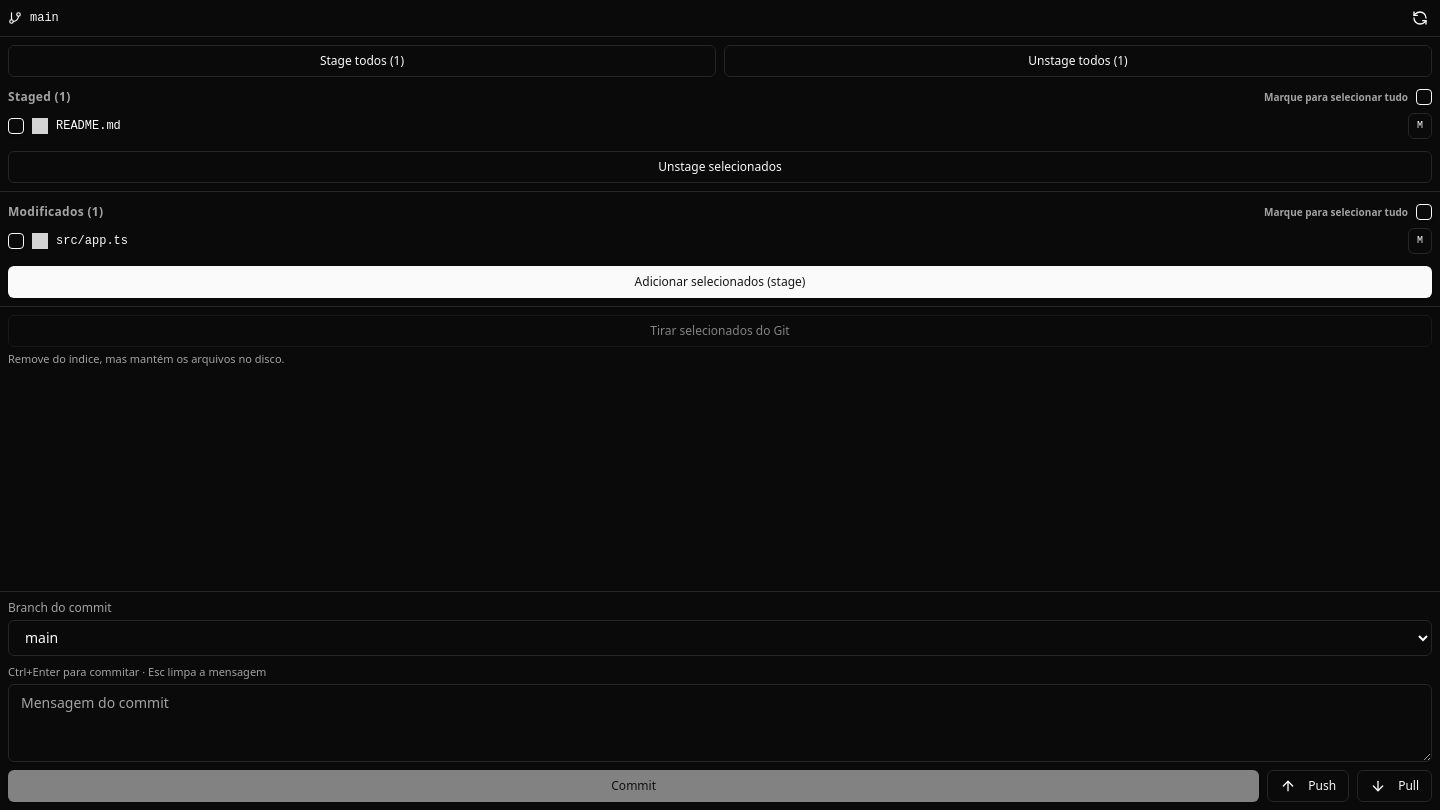
Scenario: <GitPanel /> › permite limpar a mensagem do commit com um botão dedicado
Step 1. Type "feat: clean me" into the text box with placeholder "Mensagem do commit" → (720, 723), box [8, 684, 1432, 762]
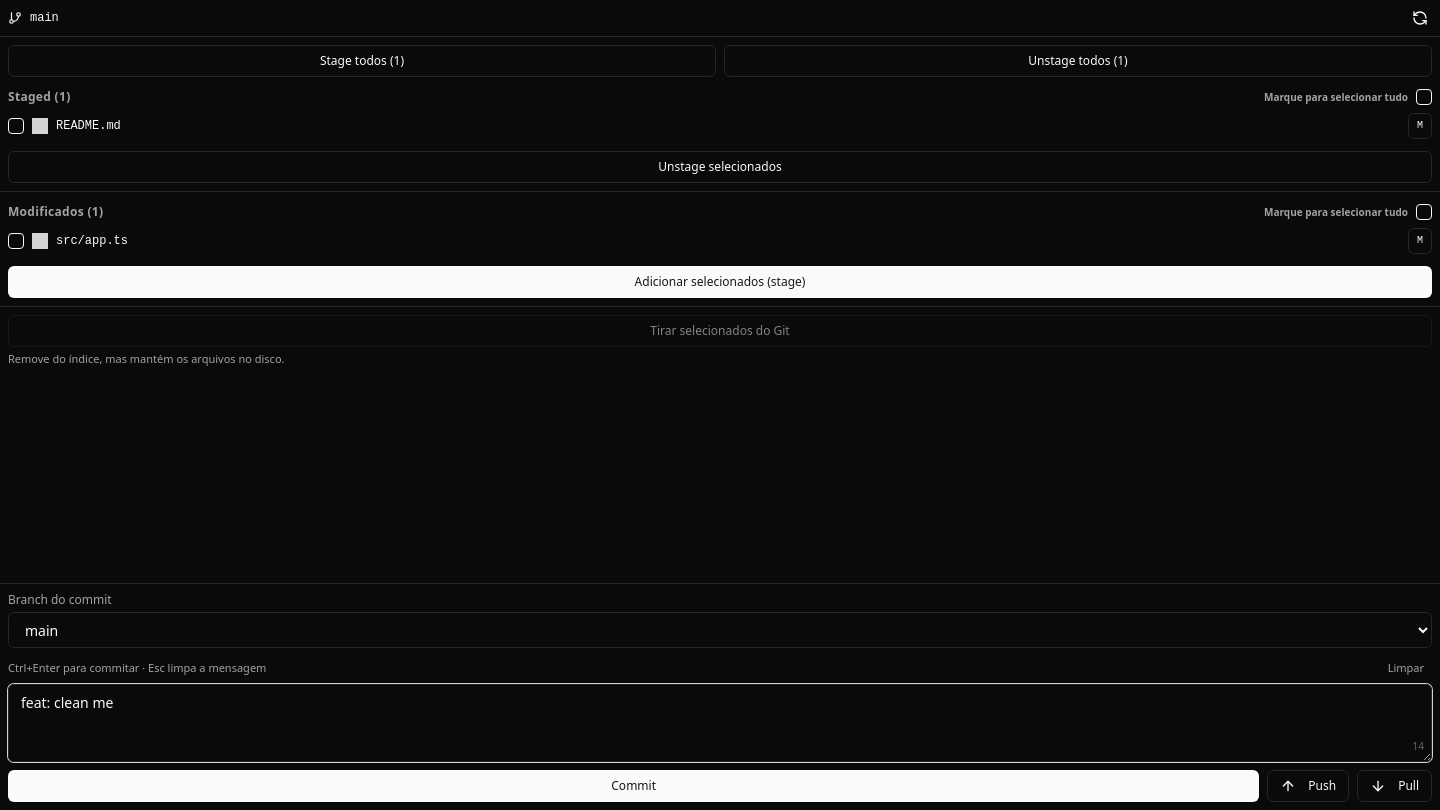
Step 2. Click the button named "Limpar mensagem do commit" → (1406, 668), box [1380, 656, 1432, 680]
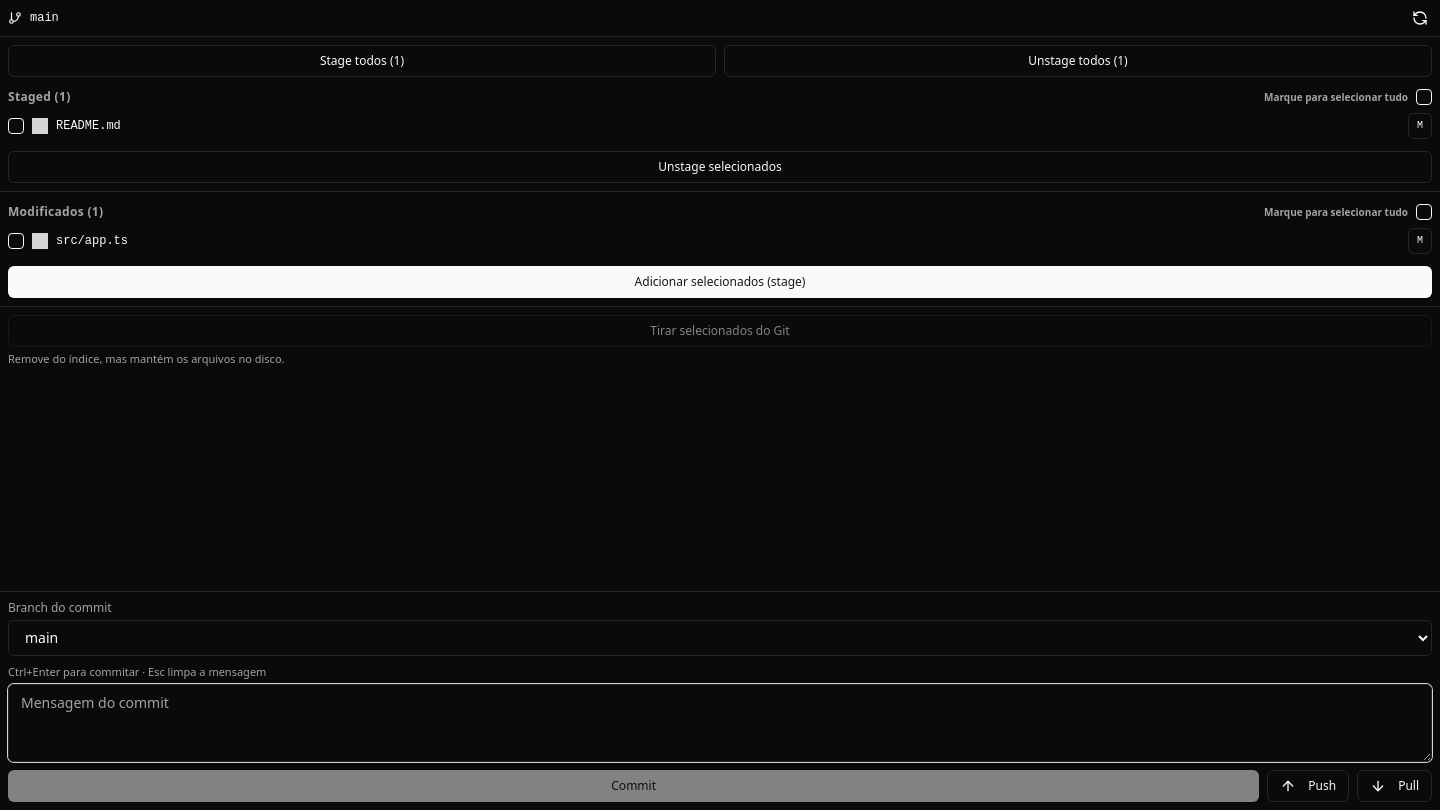
Result: the text box with placeholder "Mensagem do commit" is empty at [8, 684, 1432, 762]
